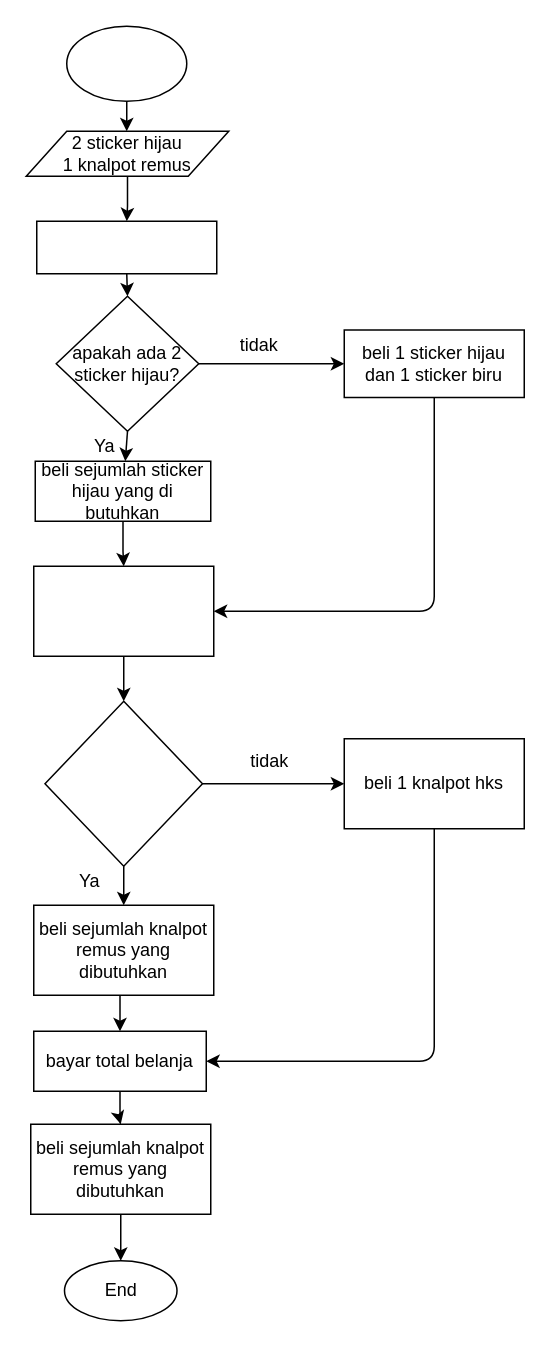
The diagram is 551 pixels wide and 1347 high, and some of its shapes have lost their labels. Here are the shapes that lost their labels. From the top down, the centre of each, then its label:
[126,63]: start
[126,247]: check stock sticker hijau
[123,610]: check stock knalpot remus
[123,783]: apakah ada 1 knalpot remus?
